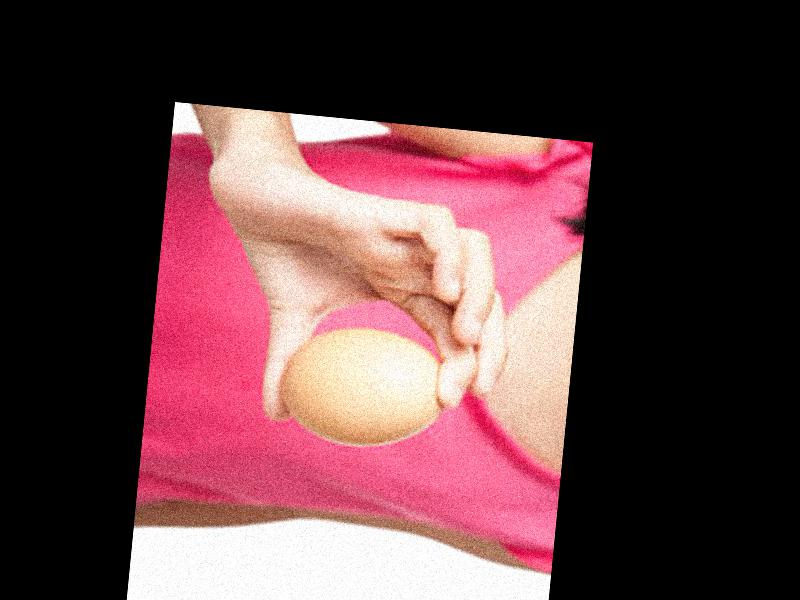Eggs: (278, 321, 453, 452)
